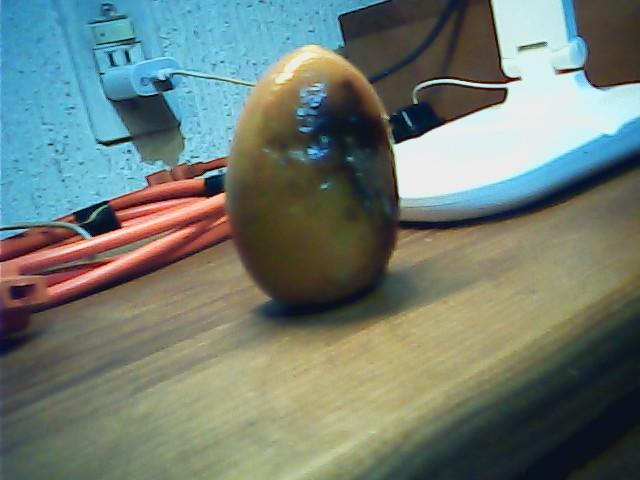defectuoso: (232, 43, 400, 310)
